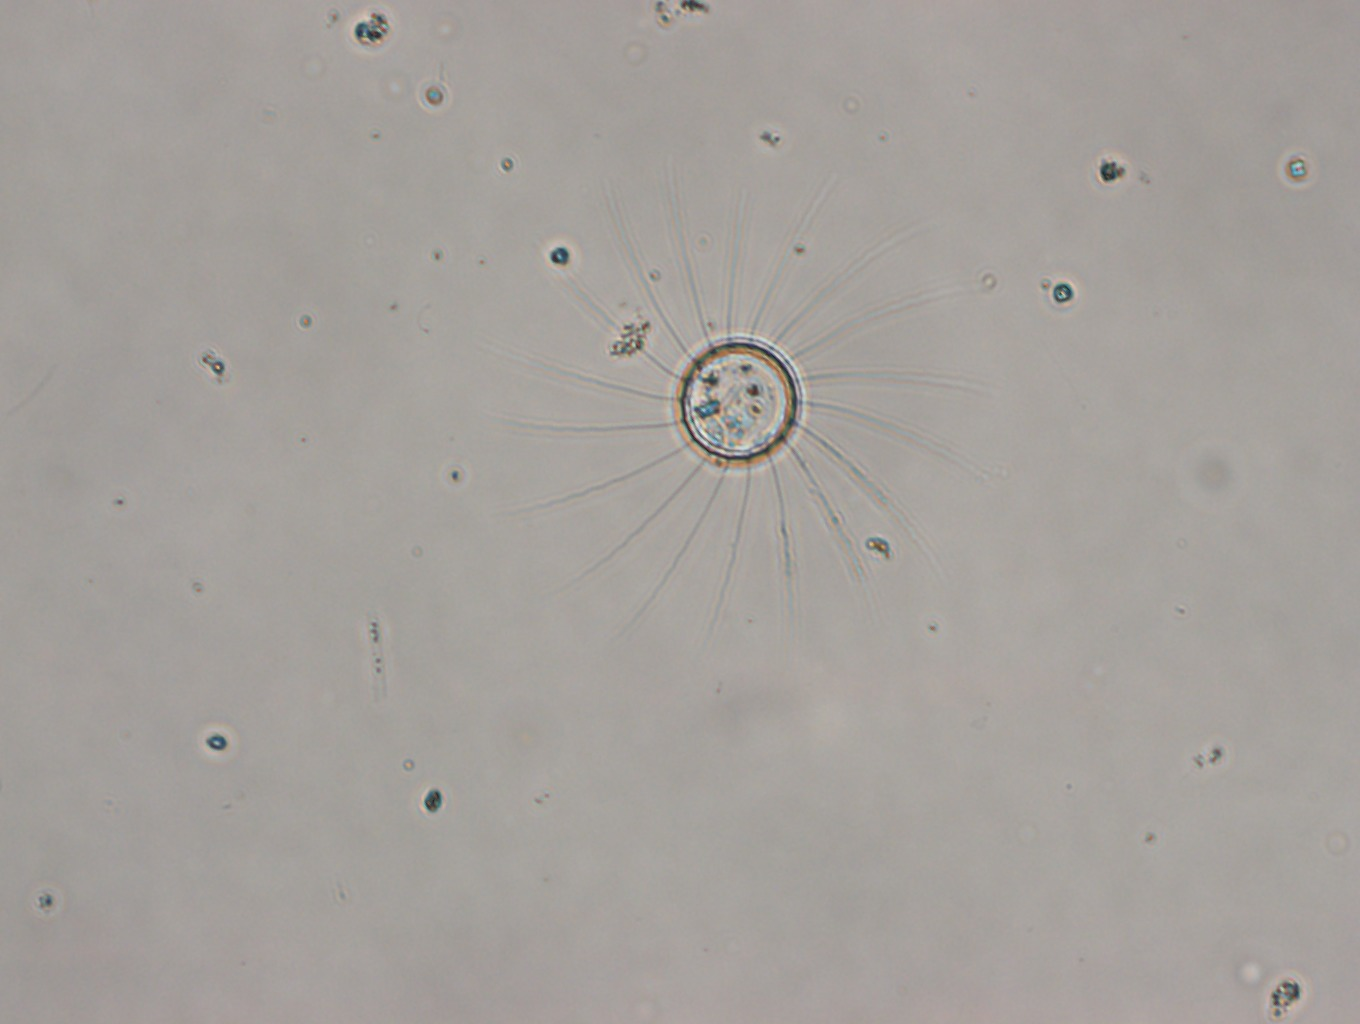bacteriastrum: (483, 156, 993, 644)
